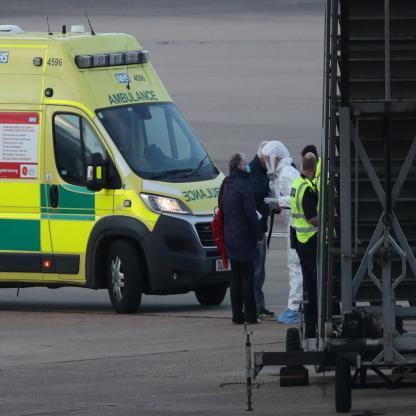Ambulance - v1 Ambulance last generate: (0, 26, 248, 315)
